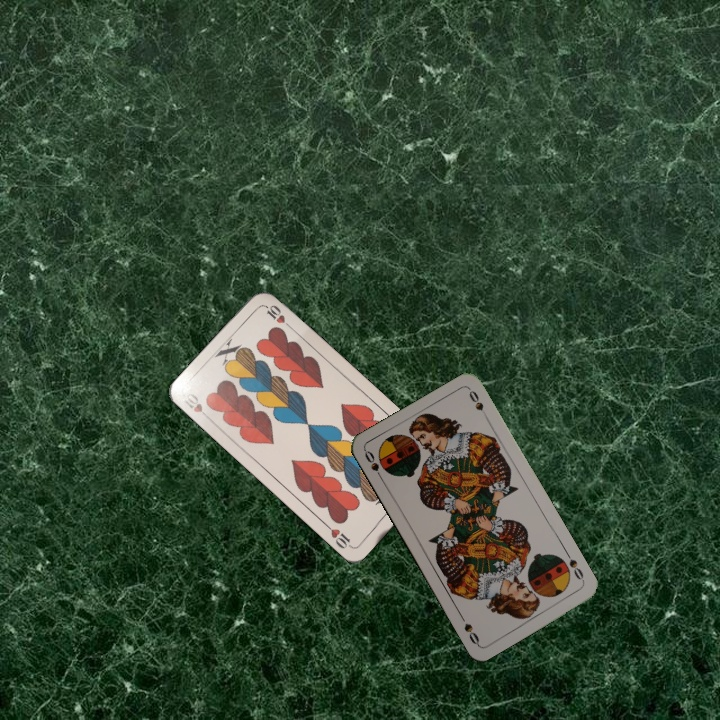H10: (177, 389, 213, 423)
SO: (360, 446, 386, 484), (562, 548, 587, 585)
